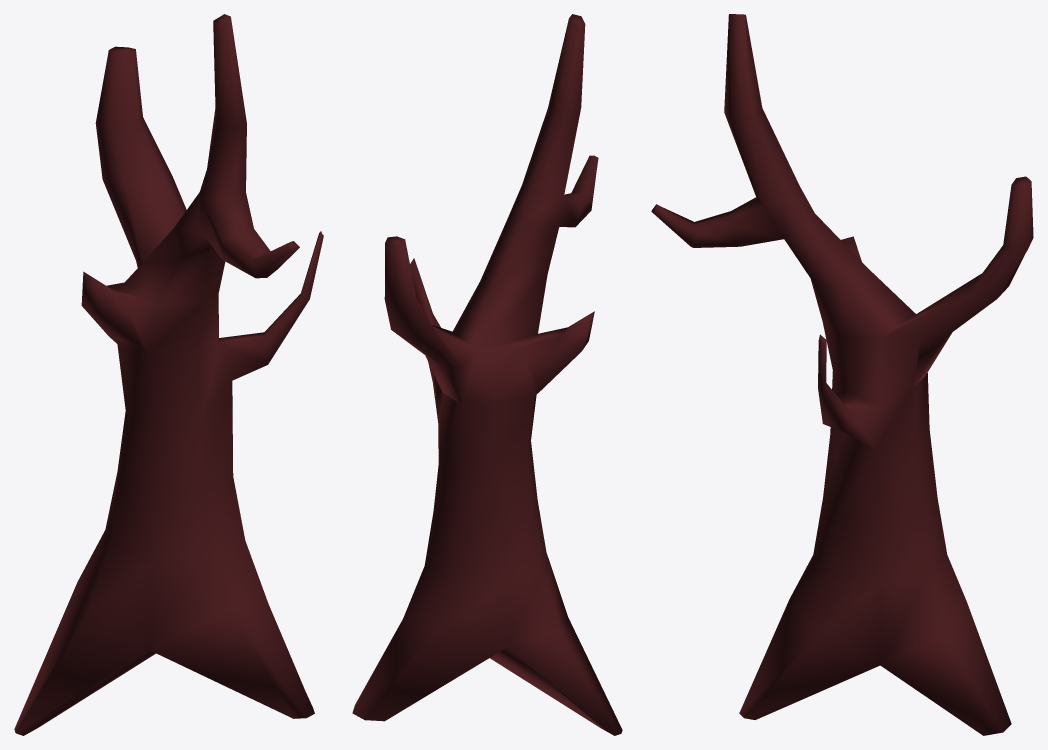
File: dead_tree_2.fbx
3 views of the same model, side by side, from view 1: azimuth 30°, elevation 25°; view 2: azimuth 150°, elevation 25°; view 3: azimuth 270°, elevation 25° (orthographic). The views are drawn at different scales.
Visible parts, largest first — view 1: Cylinder; view 2: Cylinder; view 3: Cylinder.
Part boxes in pixels (bbox=[...]): Cylinder: bbox=[14, 14, 323, 735]; Cylinder: bbox=[352, 14, 622, 735]; Cylinder: bbox=[651, 14, 1033, 735].
Bounding box in the file's own units: 5.33 × 13.59 × 6.91.
